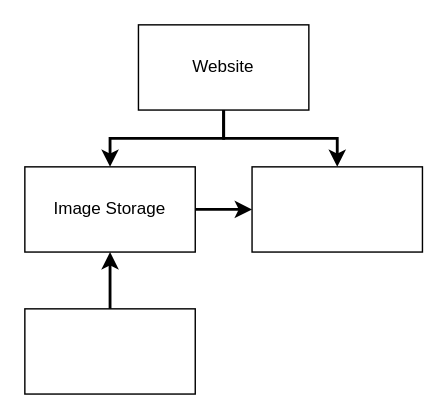
The diagram is 447 pixels wide and 419 high, and some of its shapes have lost their labels. The shapes that lost their labels are listed below. From the top down, each one's centre as x and y in pixels, then its label:
At pixel 336 208: "Daily Image API".
At pixel 109 350: "Image Ingester".
